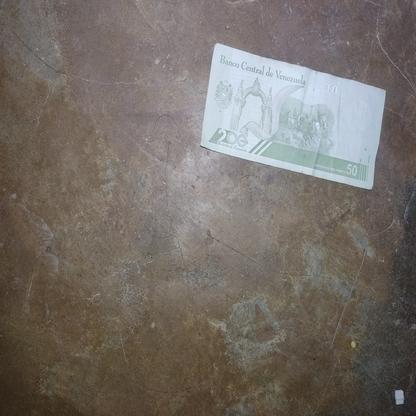fifty-back-vef: (199, 42, 387, 190)
